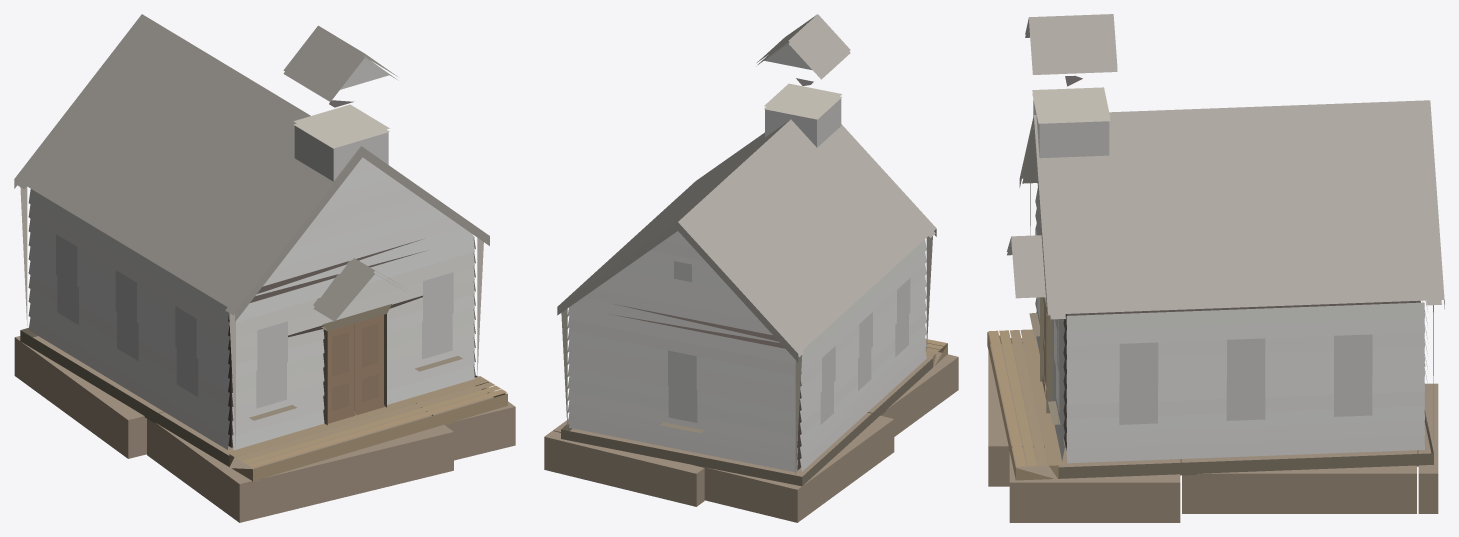
The model's file is house_10.lod.glb.
The picture shows the model from 3 angles, left to right: view 1: azimuth 30°, elevation 25°; view 2: azimuth 150°, elevation 25°; view 3: azimuth 270°, elevation 25°; orthographic projection. The views are drawn at different scales.
Visible parts, largest first — view 1: house_10; view 2: house_10; view 3: house_10.
Boxes of the visible parts, bbox=[...] form: house_10: bbox=[14, 14, 515, 522]; house_10: bbox=[544, 14, 958, 522]; house_10: bbox=[987, 14, 1444, 522].
Size of the model in its own units: 8.48 by 11.14 by 10.62.
